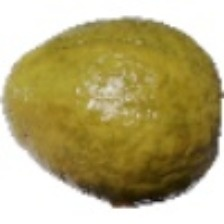guava: (24, 29, 188, 209)
